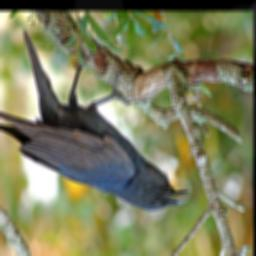Crow: (0, 28, 192, 212)
